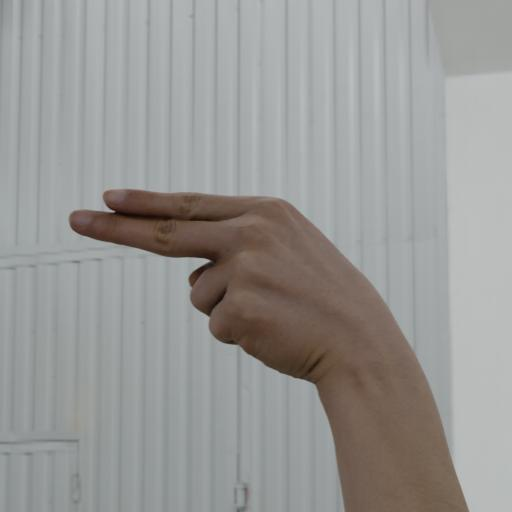H: (56, 164, 431, 398)
